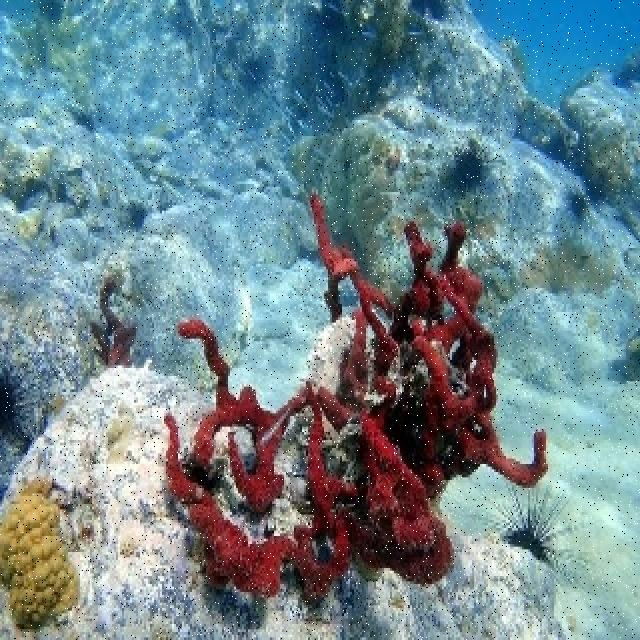reefs: (163, 195, 547, 603), (0, 472, 80, 629), (492, 484, 596, 591), (92, 267, 137, 368)
